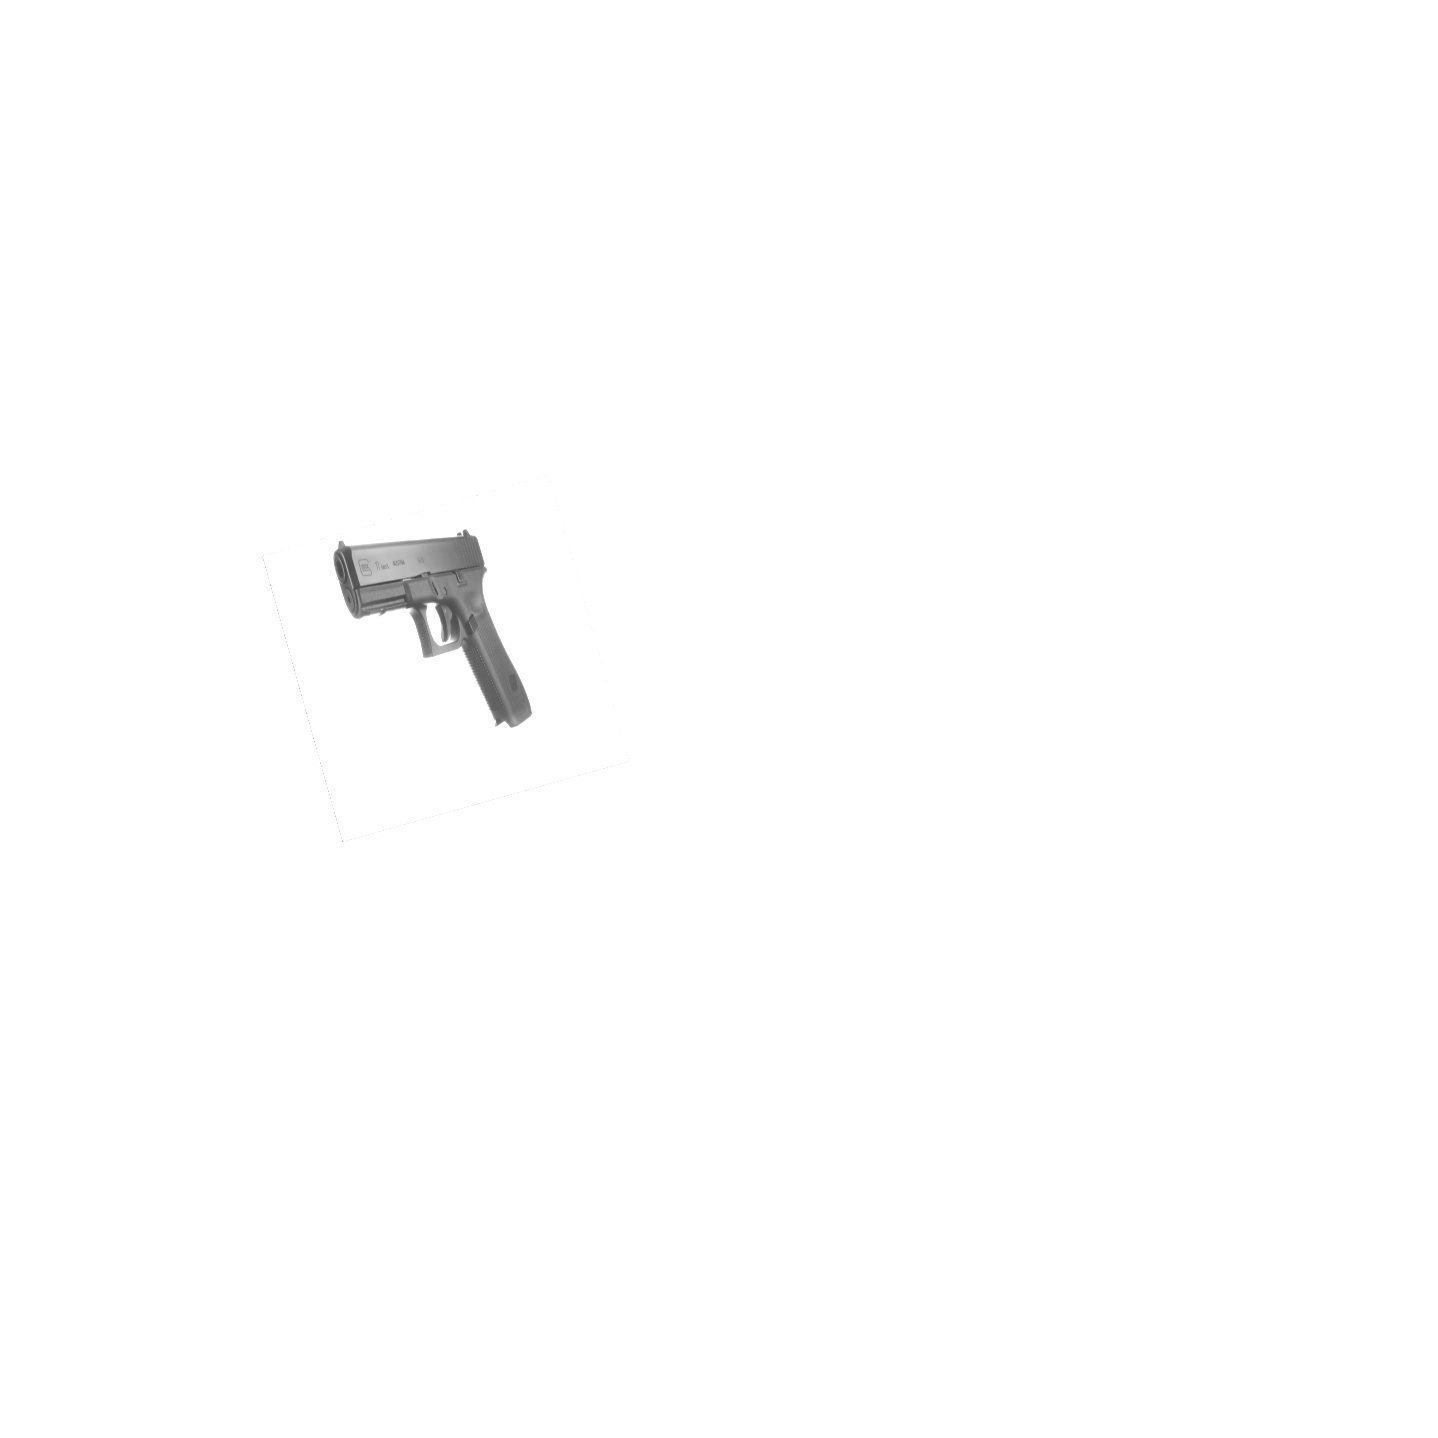gun: (327, 527, 533, 733)
